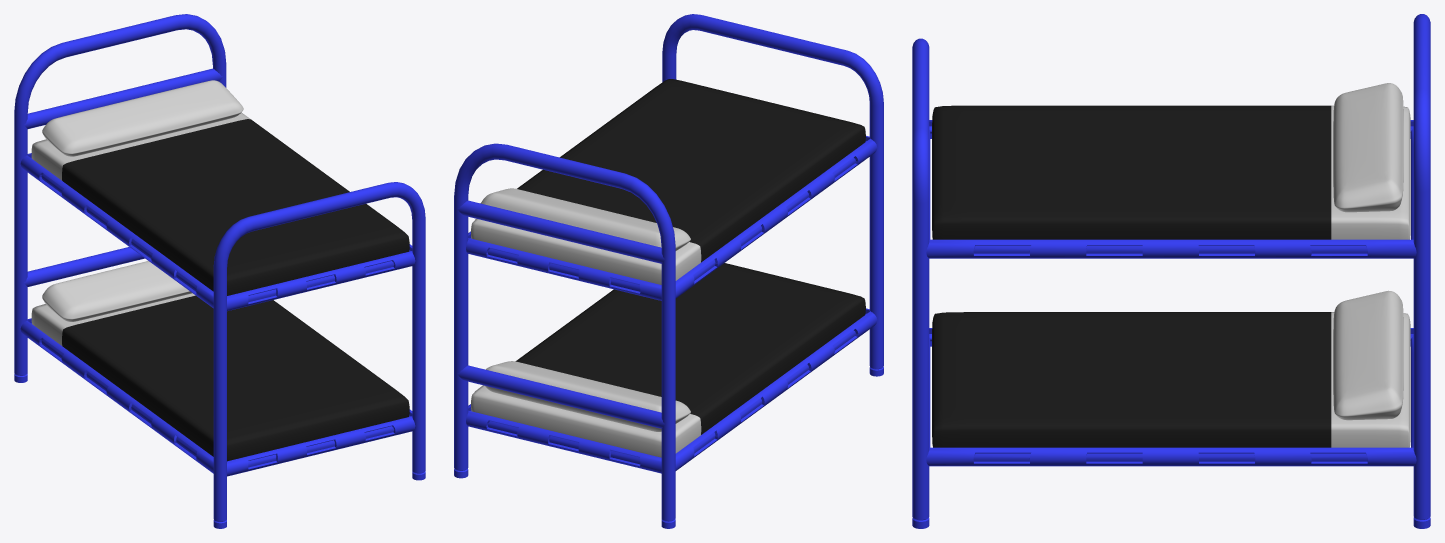
Rendered from Institute_BunkBed_Final.FBX.
The picture shows the model from 3 angles, left to right: view 1: azimuth 30°, elevation 25°; view 2: azimuth 150°, elevation 25°; view 3: azimuth 270°, elevation 25°; orthographic projection. The views are drawn at different scales.
Visible parts, largest first — view 1: BunkBed_Body; view 2: BunkBed_Body; view 3: BunkBed_Body.
Part boxes in pixels (bbox=[...]): BunkBed_Body: bbox=[14, 14, 425, 528]; BunkBed_Body: bbox=[454, 14, 883, 528]; BunkBed_Body: bbox=[912, 14, 1430, 528].
Size of the model in its own units: 138 by 204 by 234.
